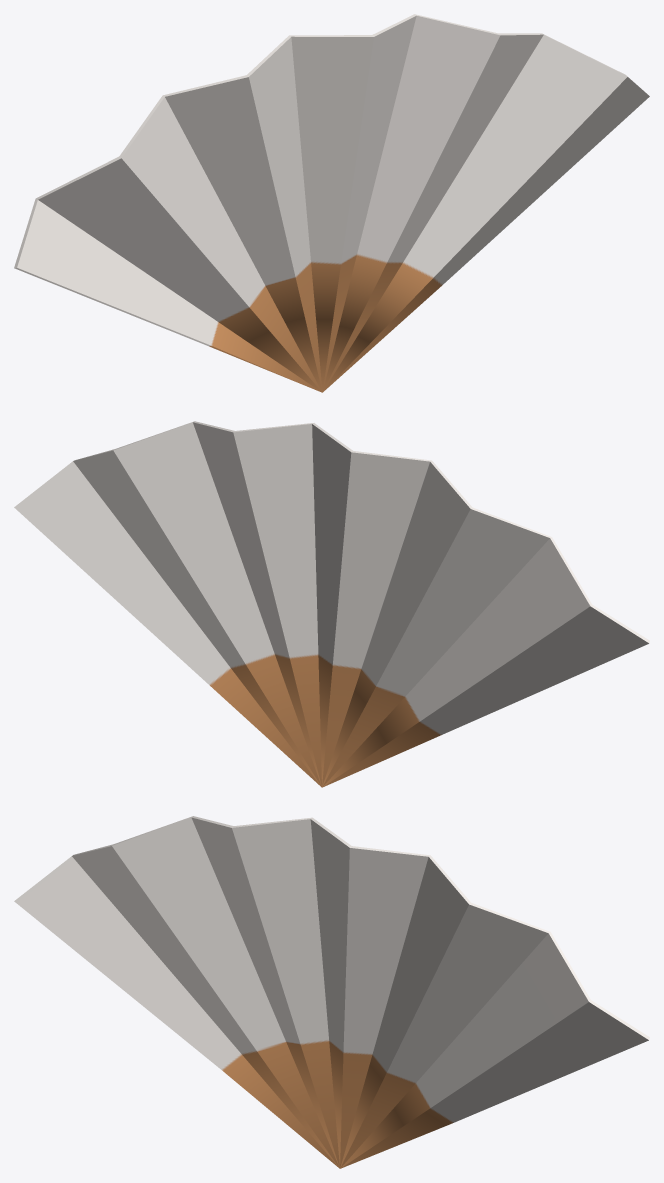
Rendered from Props_Eventail.fbx.
3 renders of one model, top to bottom at view 1: azimuth 30°, elevation 25°; view 2: azimuth 150°, elevation 25°; view 3: azimuth 330°, elevation 25°, orthographic. The views are drawn at different scales.
Parts seen in each view (by area): view 1: eventail; view 2: eventail; view 3: eventail.
Boxes of the visible parts, x1,y1,x2,y2 form: eventail: [14, 14, 649, 392]; eventail: [14, 421, 649, 787]; eventail: [14, 816, 649, 1168].
Size of the model in its own units: 44.39 by 23.56 by 2.66.
